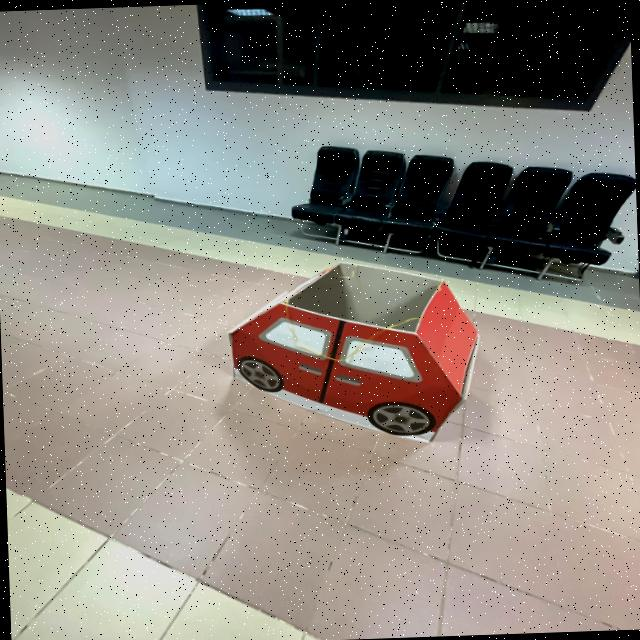red_car: (198, 250, 506, 473)
